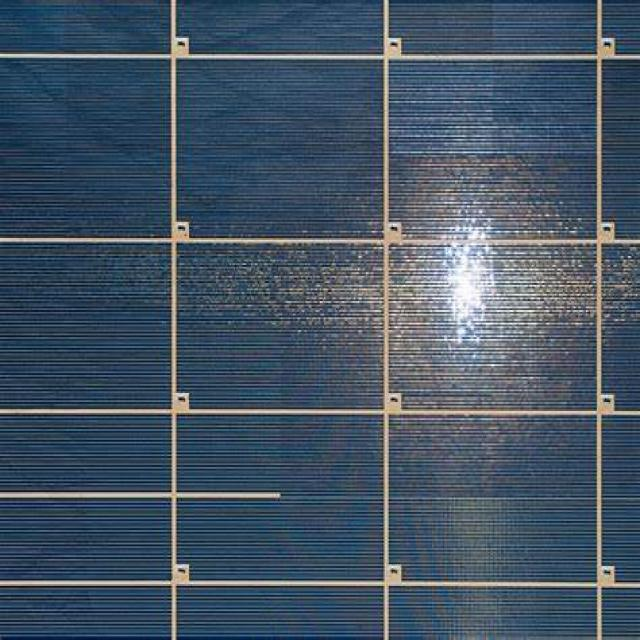Electrical-damage: (387, 59, 601, 413), (174, 235, 385, 422), (599, 242, 640, 412)
